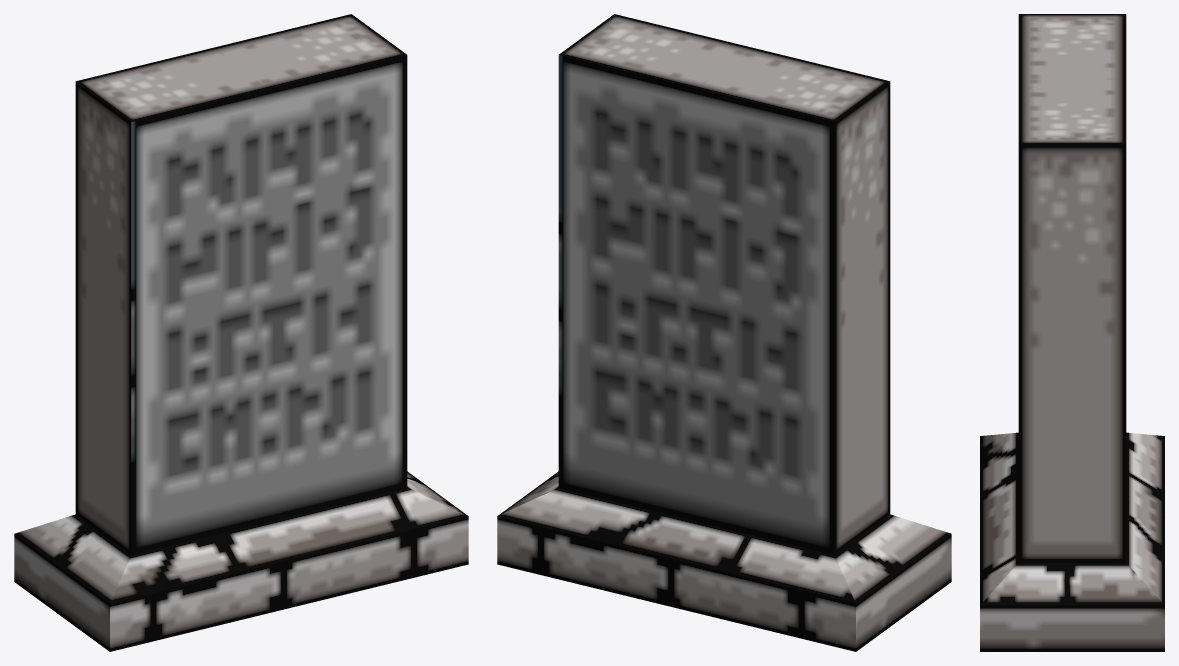
The model's file is deco_winter_grave.FBX.
3 renders of one model, left to right at view 1: azimuth 30°, elevation 25°; view 2: azimuth 150°, elevation 25°; view 3: azimuth 270°, elevation 25°, orthographic. The views are drawn at different scales.
Visible parts, largest first — view 1: deco_winter_grave; view 2: deco_winter_grave; view 3: deco_winter_grave.
Boxes of the visible parts, box(x1,y1,x2,y2) form: deco_winter_grave: box(14, 14, 468, 651); deco_winter_grave: box(497, 14, 951, 651); deco_winter_grave: box(980, 14, 1164, 651).
Bounding box in the file's own units: 1.3 × 1.75 × 0.6.
Materials: 1 (1 with a texture image).
